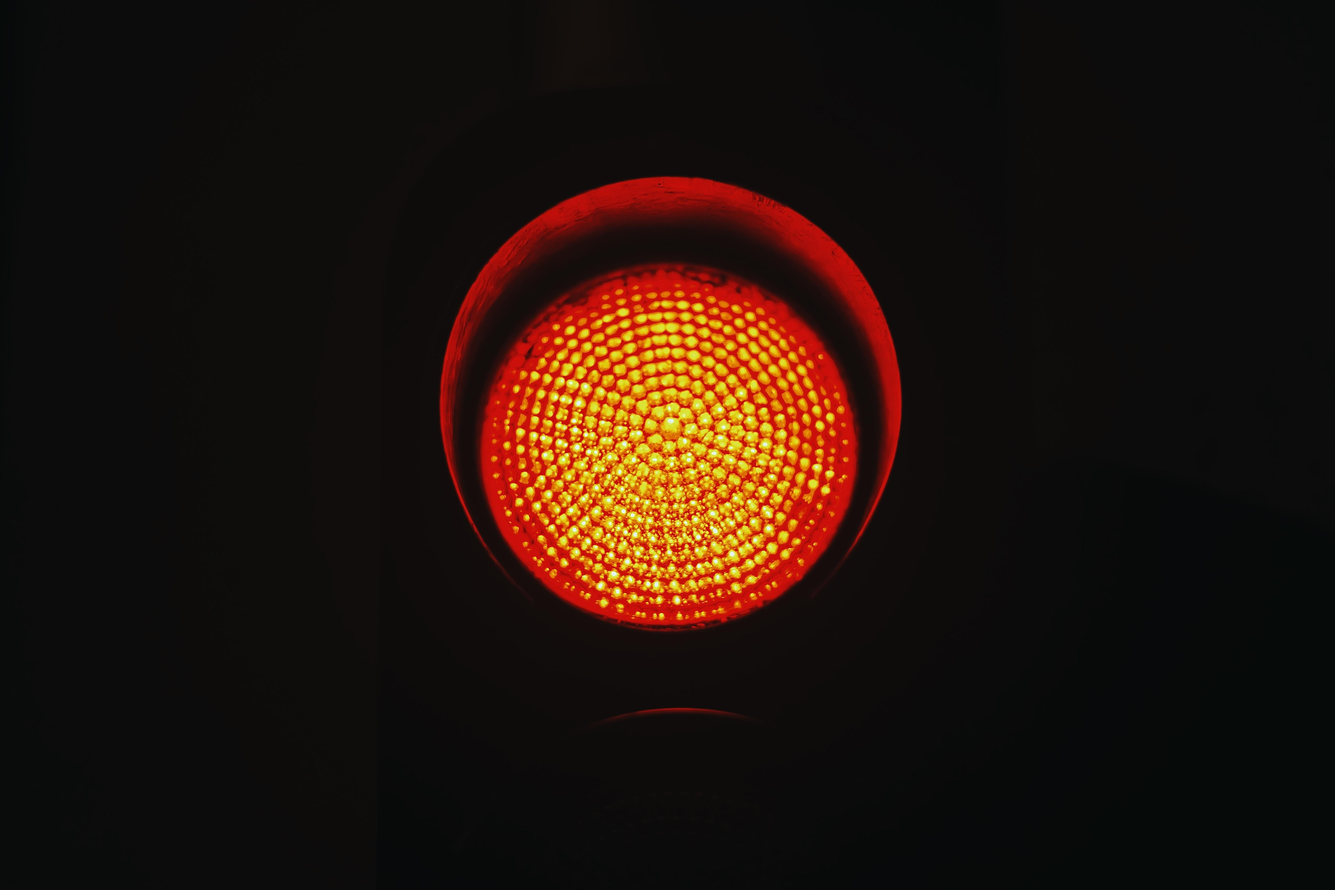red: (359, 68, 1023, 890)
